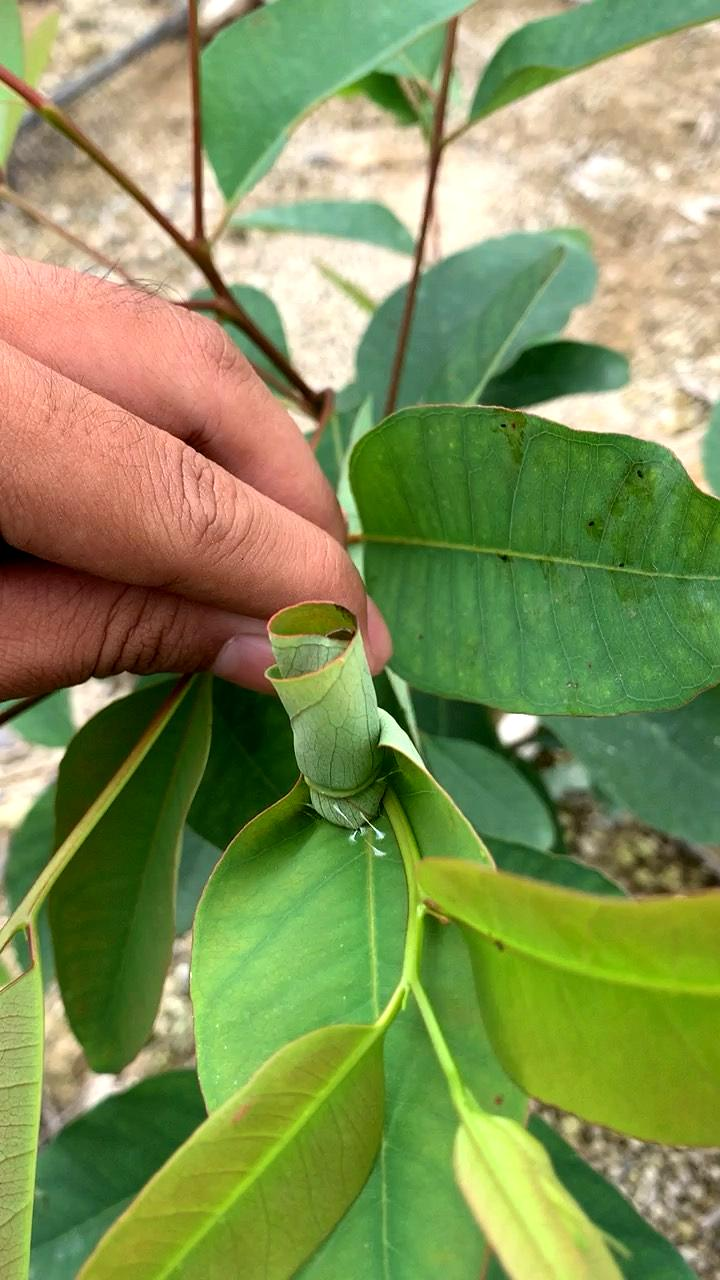Leaf Roller - Leaf: (240, 573, 411, 844)
